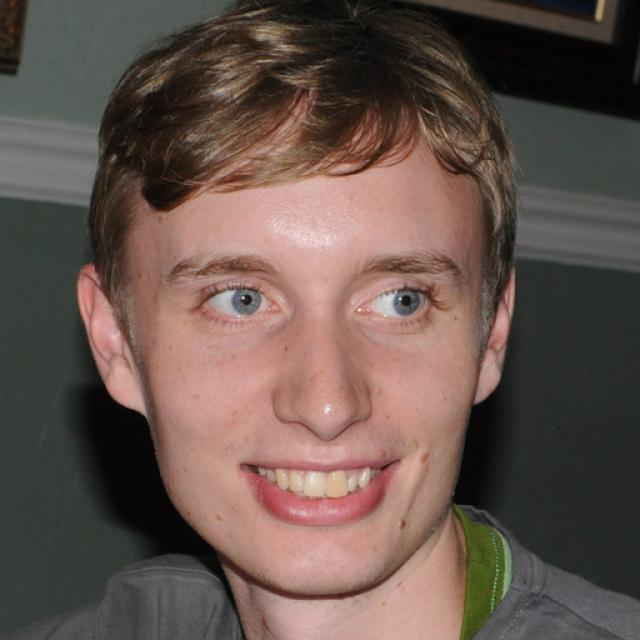Acne: (209, 505, 244, 530), (408, 445, 434, 473), (388, 514, 416, 537)
